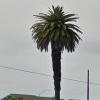Palm tree: (26, 1, 83, 92)
